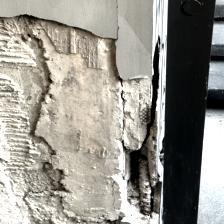High: (1, 1, 168, 224)
